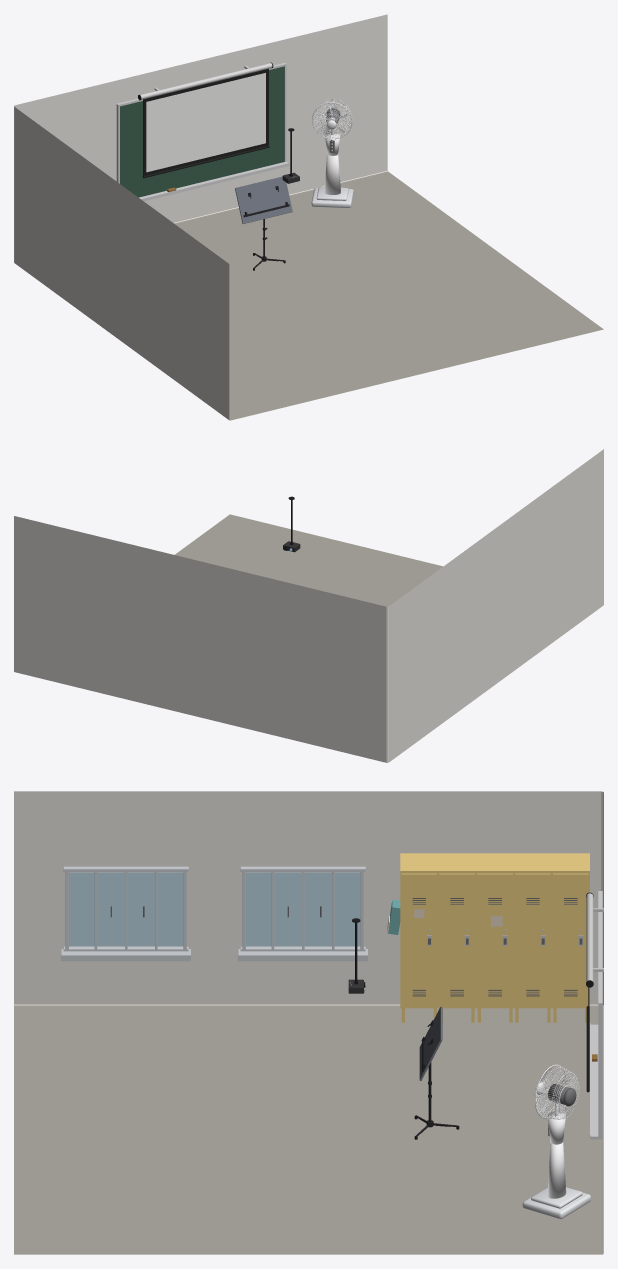
The model's file is Room.glb.
The picture shows the model from 3 angles, top to bottom: view 1: azimuth 30°, elevation 25°; view 2: azimuth 150°, elevation 25°; view 3: azimuth 270°, elevation 25°; orthographic projection. The views are drawn at different scales.
Visible parts, largest first — view 1: room, Screen_Surface, Classroom_Board_Standard, Music Stand Sheet Plate, Grill, Screen_Housing, Column; view 2: room; view 3: room, Yellow_Locker_Set, Handle_Right, Handle_Right.001, Classroom_Board_Standard, Grill, Music Stand Sheet Plate, Column, Base, Screen_Housing.
Part boxes in pixels (x1=…): room: x1=14, y1=14, x2=603, y2=420; Screen_Surface: x1=146, y1=73, x2=265, y2=172; Classroom_Board_Standard: x1=116, y1=63, x2=289, y2=201; Music Stand Sheet Plate: x1=235, y1=176, x2=292, y2=270; Grill: x1=312, y1=99, x2=352, y2=141; Screen_Housing: x1=140, y1=63, x2=272, y2=99; Column: x1=324, y1=153, x2=340, y2=194; room: x1=14, y1=449, x2=603, y2=762; room: x1=14, y1=791, x2=603, y2=1254; Yellow_Locker_Set: x1=387, y1=853, x2=589, y2=1022; Handle_Right: x1=61, y1=866, x2=190, y2=961; Handle_Right.001: x1=238, y1=866, x2=367, y2=961; Classroom_Board_Standard: x1=590, y1=891, x2=602, y2=1139; Grill: x1=534, y1=1064, x2=579, y2=1119; Music Stand Sheet Plate: x1=414, y1=1006, x2=459, y2=1139; Column: x1=547, y1=1142, x2=566, y2=1198; Base: x1=522, y1=1187, x2=590, y2=1219; Screen_Housing: x1=586, y1=893, x2=593, y2=981.
Bounding box in the file's own units: 10 × 4 × 10.
